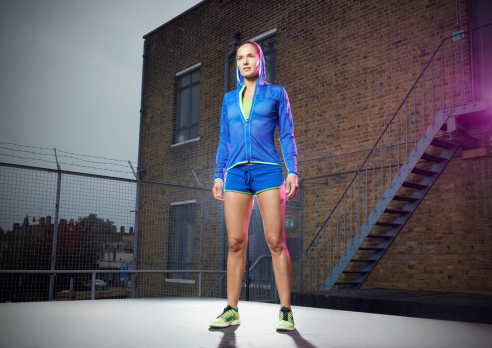em pe: (201, 36, 303, 321)
